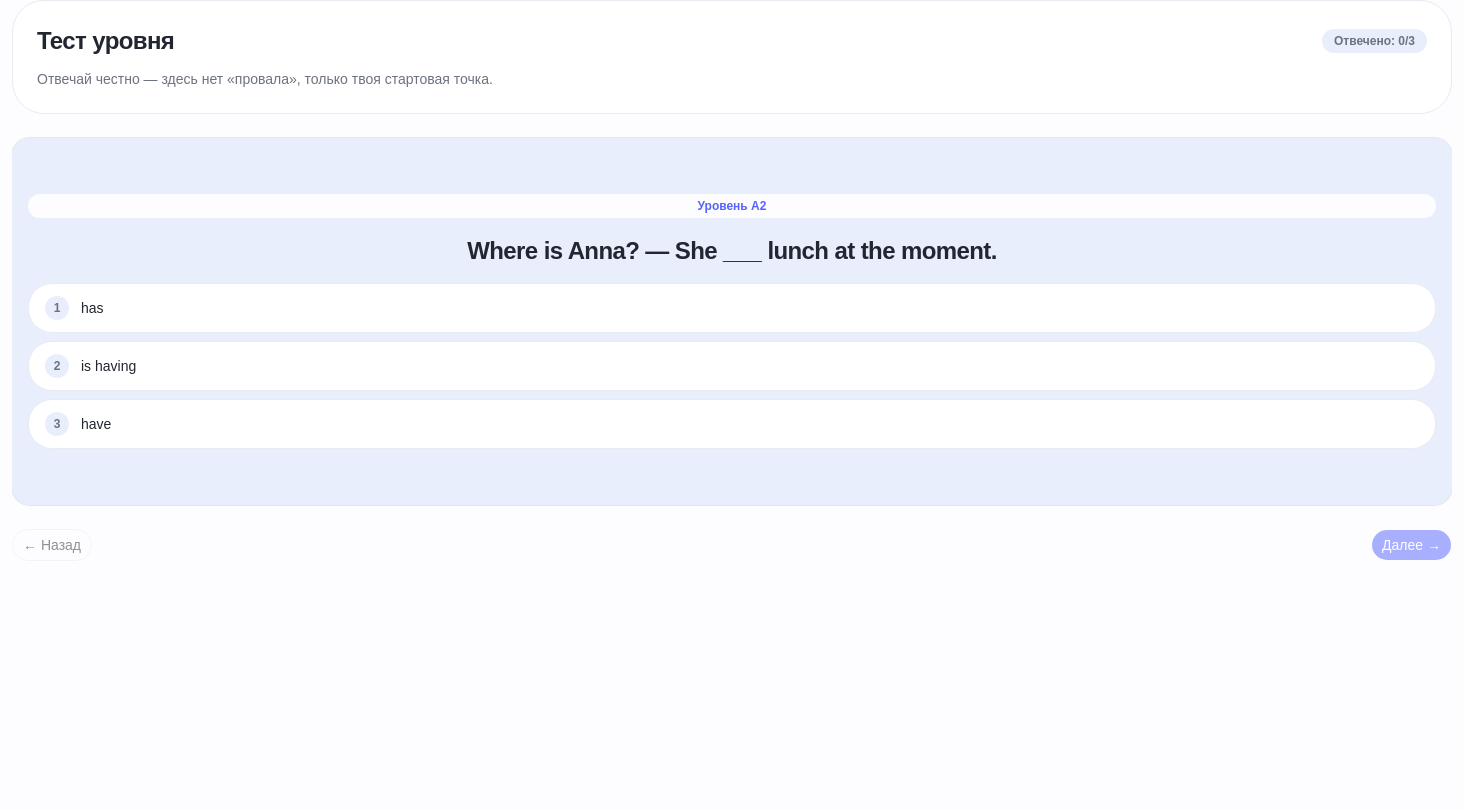
PlacementRunner › disables Next until the current item is answered
The image size is (1464, 810).
Check: the text "Where is Anna? — She ___ lunch at the moment." is shown, box [467,237,997,264]
Check: the button "Далее →" is disabled, box [1371,529,1452,561]
Click the button "1 has". click: (57, 308)
box: [28,283,1436,333]
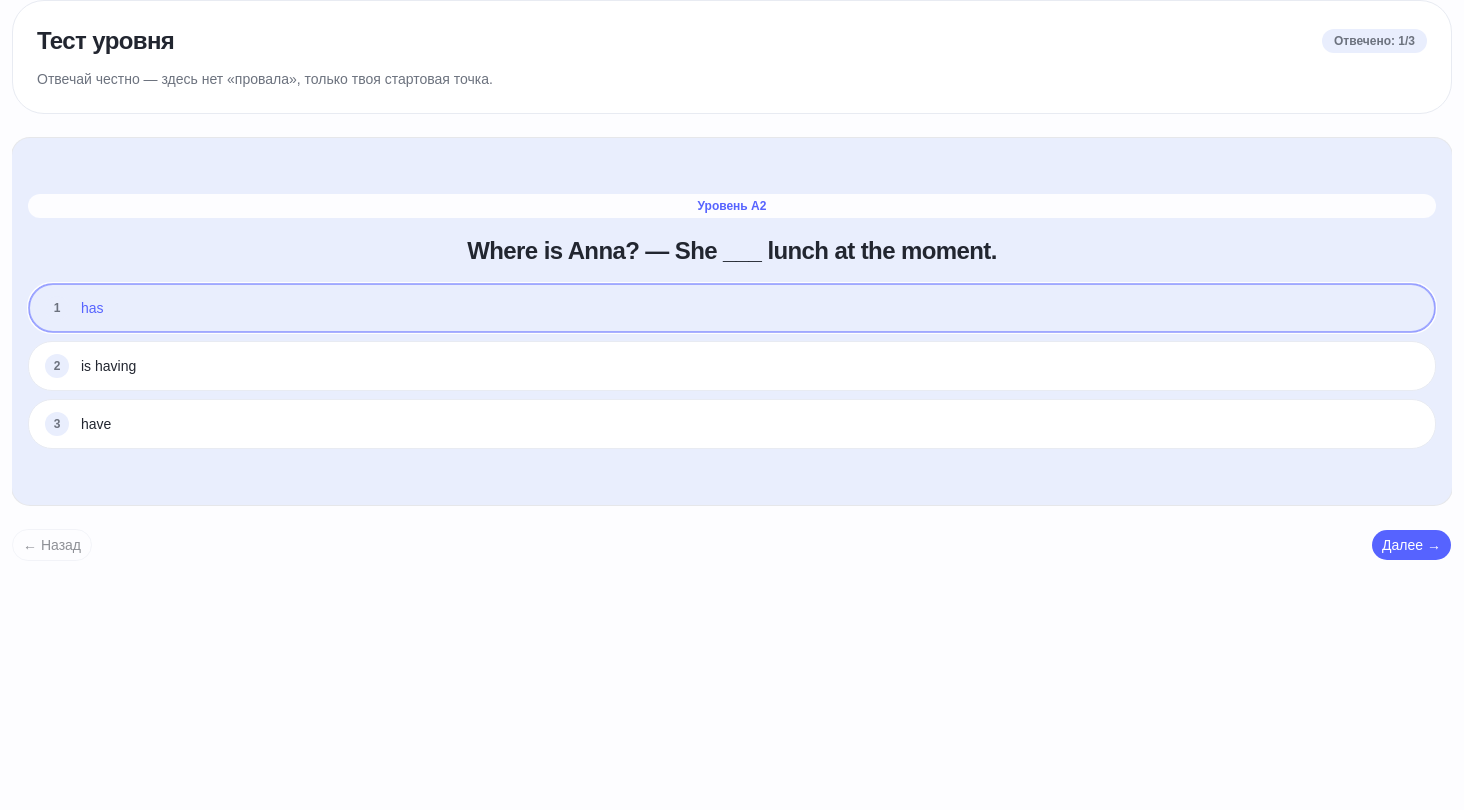
Check: the button "Далее →" is enabled, box [1371,529,1452,561]
